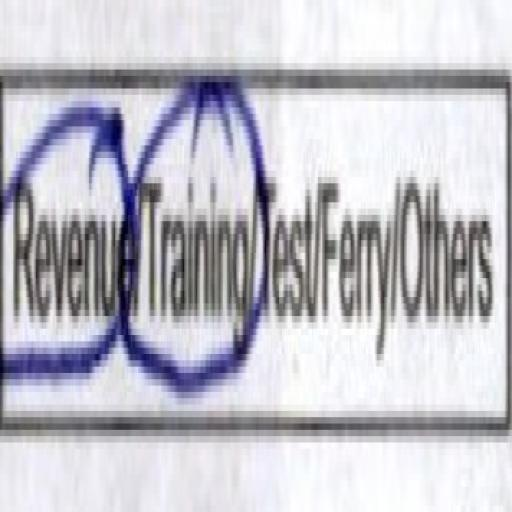check: (0, 0, 132, 512), (136, 0, 256, 512)
